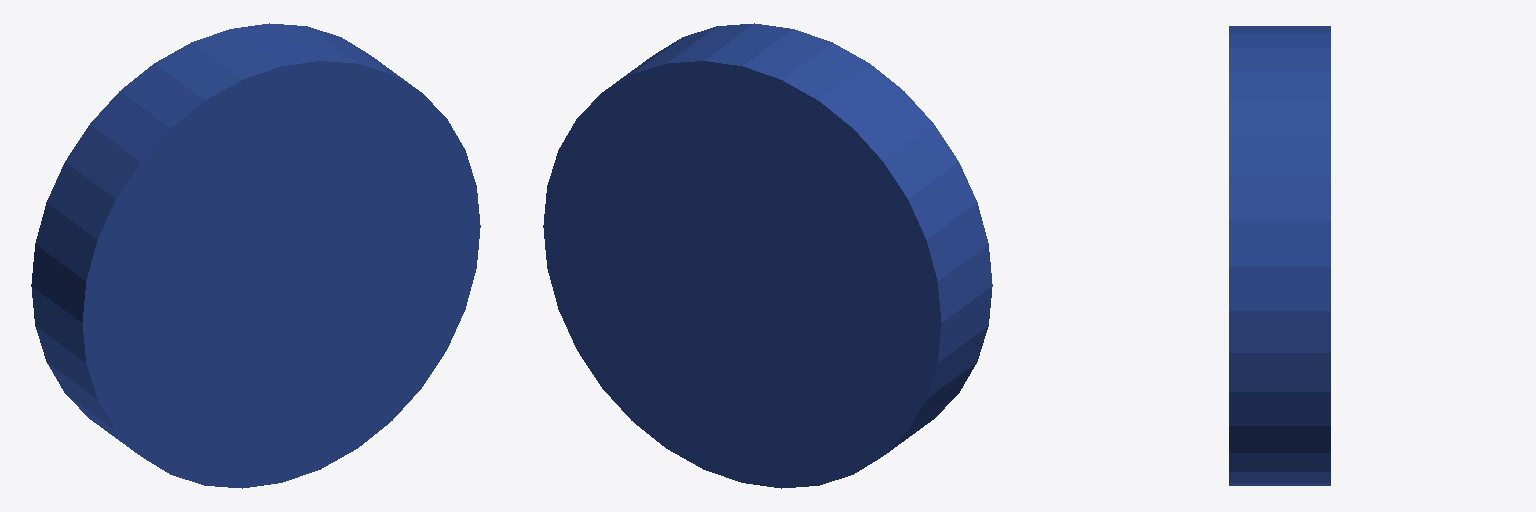
Rendered from airPropeller.obj.
3 renders of one model, left to right at view 1: azimuth 30°, elevation 25°; view 2: azimuth 150°, elevation 25°; view 3: azimuth 270°, elevation 25°, orthographic.
Visible parts, largest first — view 1: Cylinder; view 2: Cylinder; view 3: Cylinder.
Boxes of the visible parts, <box> form: Cylinder: <box>31,23,480,488</box>; Cylinder: <box>543,23,992,488</box>; Cylinder: <box>1229,26,1330,485</box>.
Bounding box in the file's own units: 1.5 × 1.5 × 0.3336.